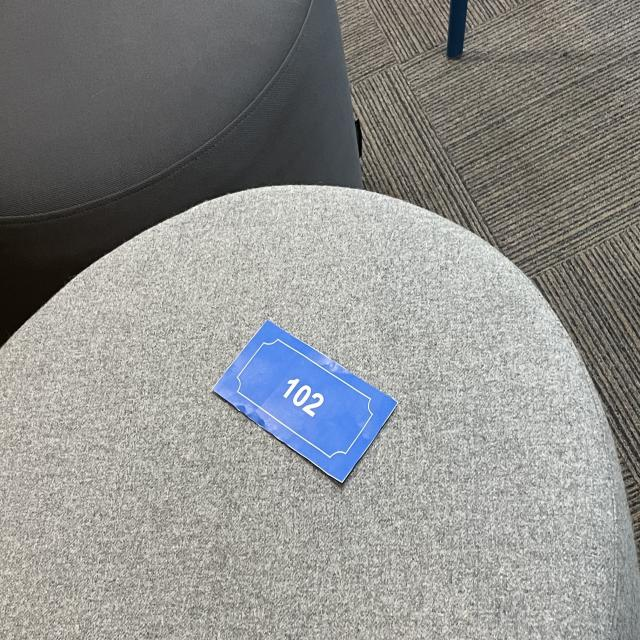Card: (191, 303, 416, 496)
